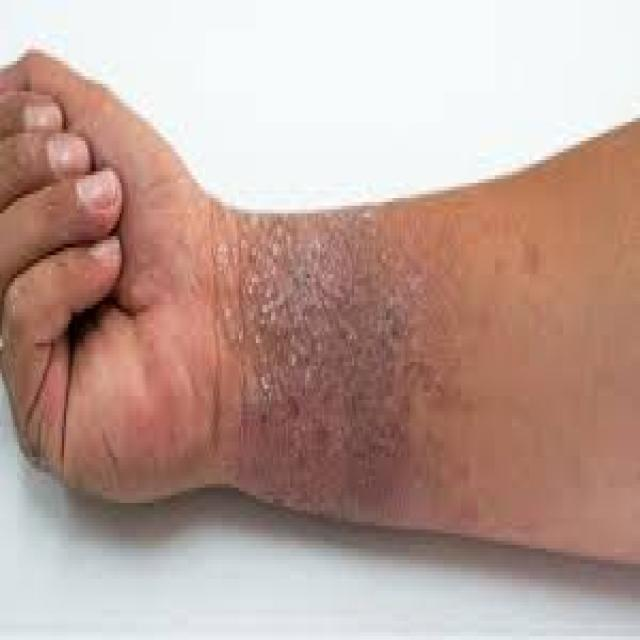Eczema: (188, 204, 438, 514)
